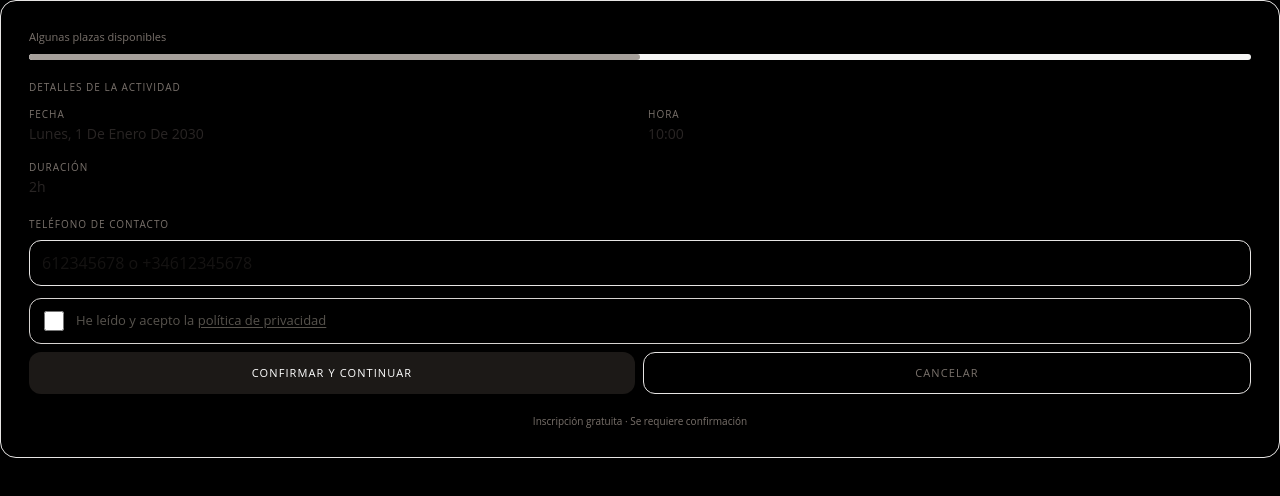
Test case: BookingWidget — paso de teléfono › sin aceptar la política, "Confirmar y continuar" avisa en vez de inscribir
The width and height of the screenshot is (1280, 496).
What coordinates should you click on to do the following:
click the button "Confirmar y continuar"
I would click on:
 (332, 373)
Its box is top-left (29, 352), bottom-right (635, 394).
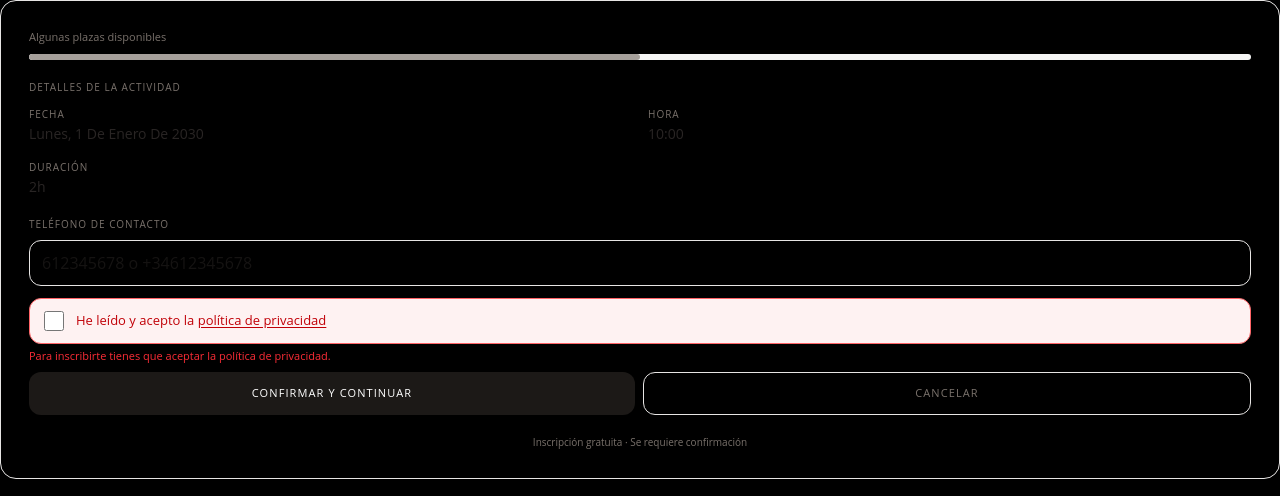
expect the message shows "aceptar la política de privacidad": met, box top-left (29, 348), bottom-right (331, 362)
